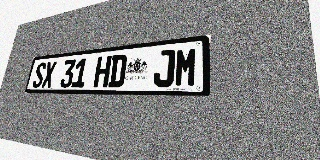1: (71, 58, 89, 88)
3: (59, 59, 76, 88)
D: (108, 54, 128, 87)
H: (93, 55, 112, 87)
J: (153, 49, 176, 87)
M: (174, 47, 198, 87)
S: (32, 62, 47, 88)
X: (41, 61, 57, 88)
